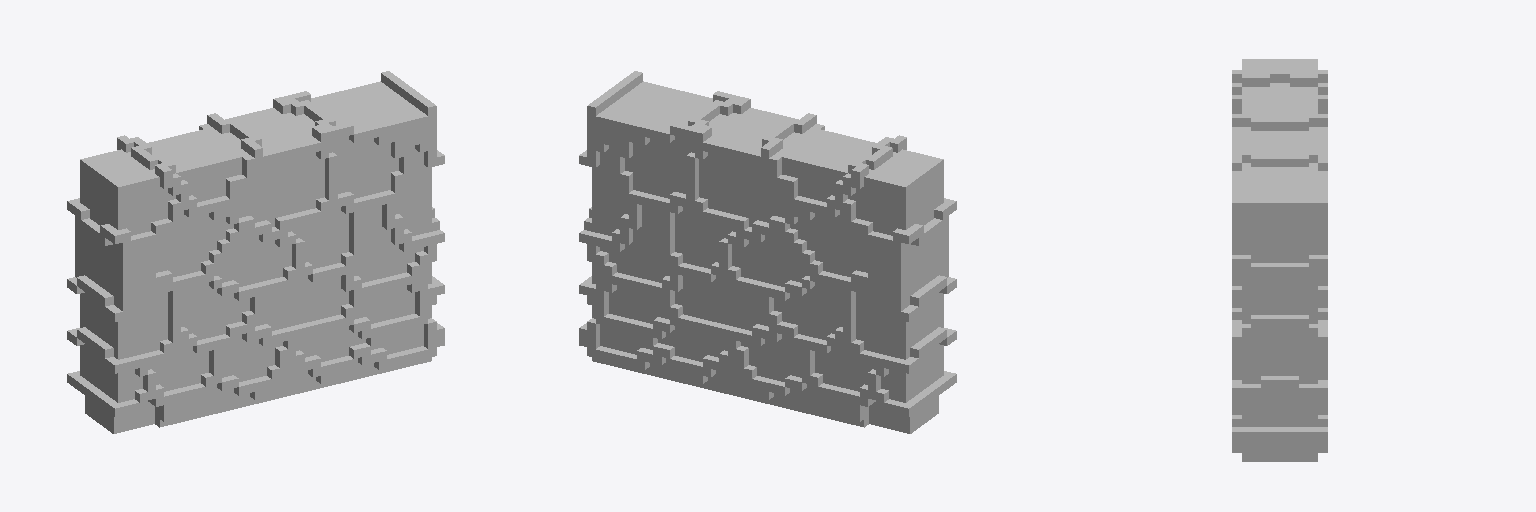
File: wall.obj
3 renders of one model, left to right at view 1: azimuth 30°, elevation 25°; view 2: azimuth 150°, elevation 25°; view 3: azimuth 270°, elevation 25°, orthographic.
Bounding box in the file's own units: 40 × 30 × 10.